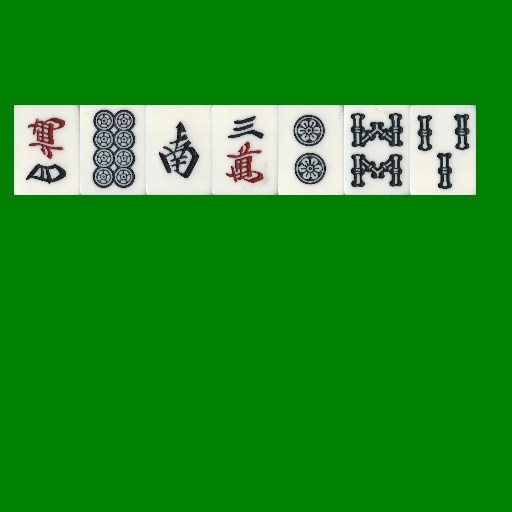2p: (278, 105, 344, 195)
3m: (212, 105, 278, 195)
3s: (410, 105, 476, 195)
4m: (14, 105, 80, 195)
8p: (80, 105, 146, 195)
8s: (344, 105, 410, 195)
south: (146, 105, 212, 195)
